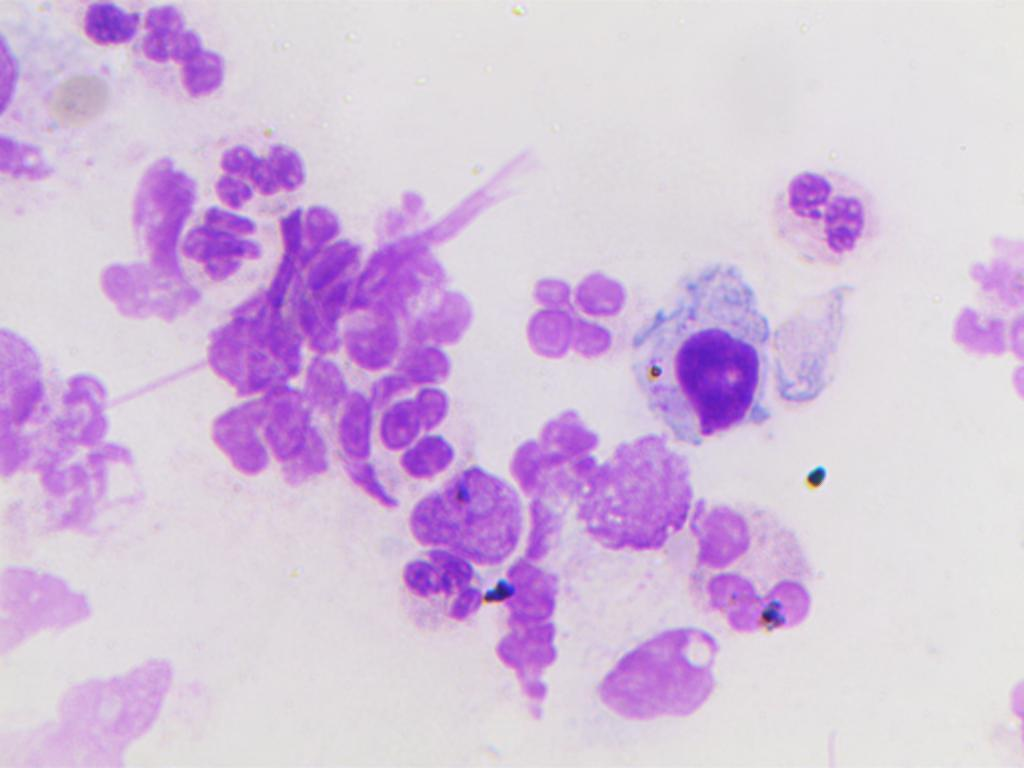artifact: (0, 329, 116, 576), (0, 649, 188, 768), (98, 156, 199, 336), (953, 218, 1024, 449), (482, 567, 578, 726), (575, 428, 686, 554), (803, 452, 846, 497)
epithelial: (595, 614, 726, 732), (402, 464, 529, 566)
lymphocyte: (639, 266, 770, 450)
neutrophil: (340, 204, 496, 386), (682, 490, 830, 644), (206, 382, 338, 498), (79, 3, 233, 102), (161, 200, 282, 320), (183, 290, 315, 393), (760, 167, 891, 265), (297, 350, 380, 501), (371, 384, 482, 492), (276, 206, 356, 353), (522, 261, 634, 358), (212, 120, 315, 211), (391, 548, 484, 641)
